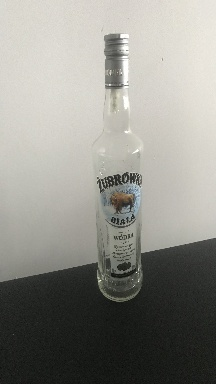butelka: (88, 29, 145, 305)
